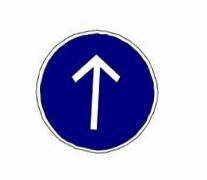forward: (36, 29, 159, 154)
